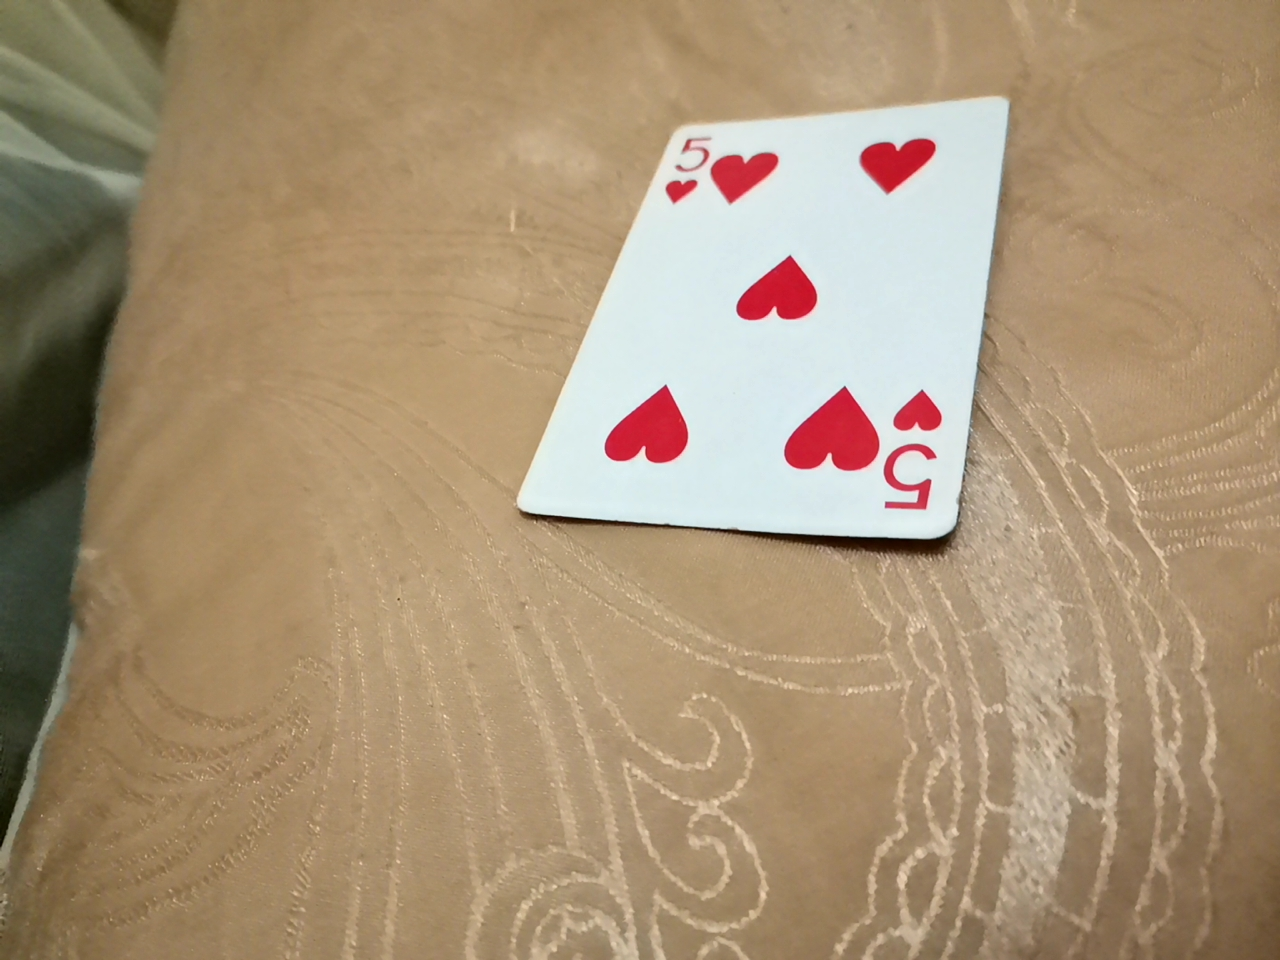hx 5: (519, 110, 1000, 554)
